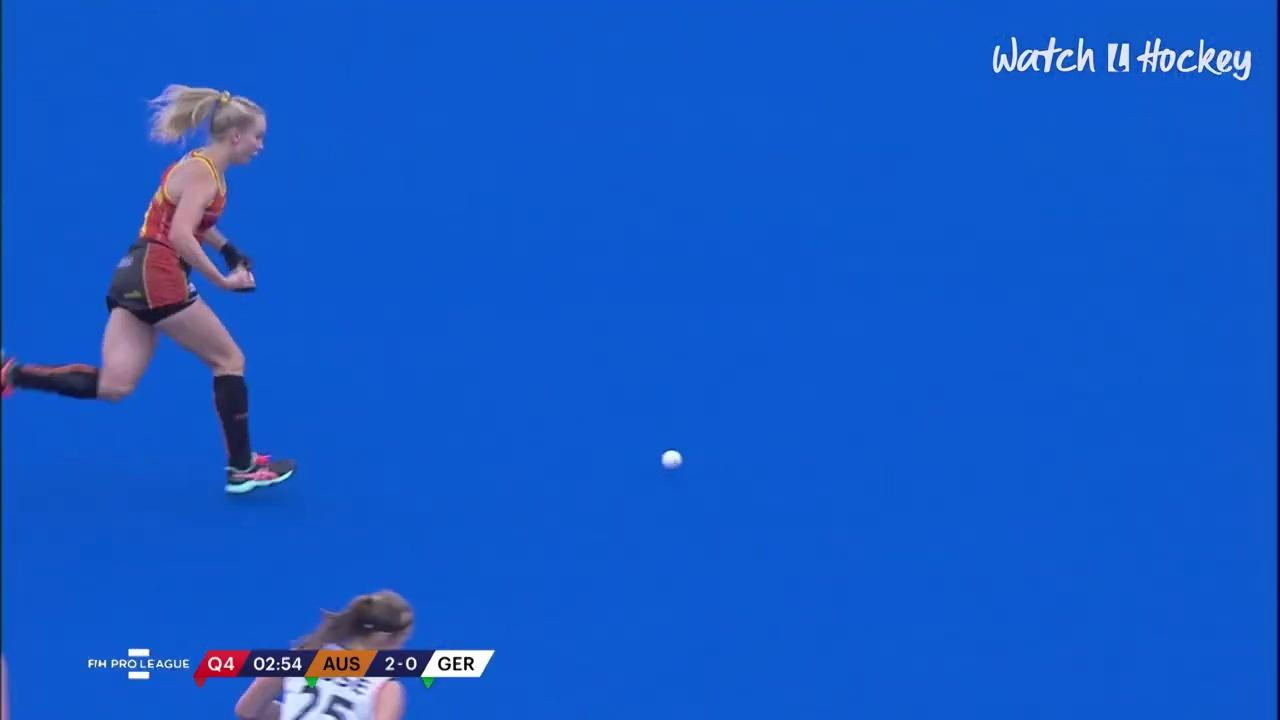ball: (639, 432, 706, 482)
